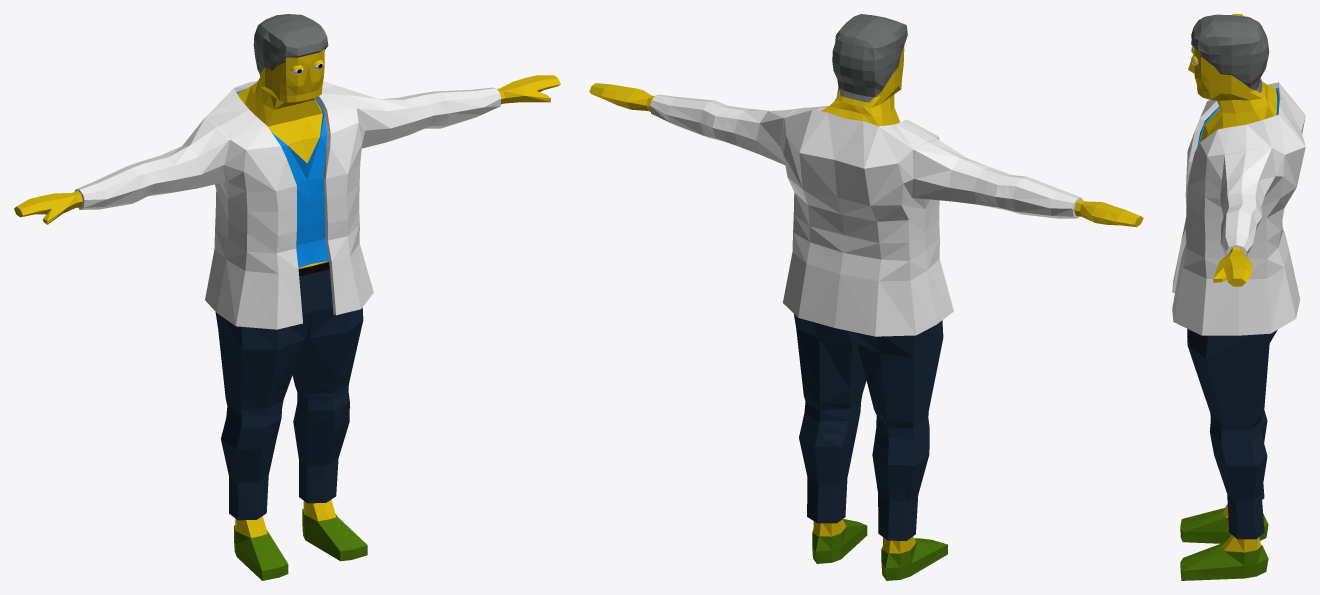
The model's file is Dealer.fbx.
3 renders of one model, left to right at view 1: azimuth 30°, elevation 25°; view 2: azimuth 150°, elevation 25°; view 3: azimuth 270°, elevation 25°, orthographic.
Parts seen in each view (by area): view 1: Dealer; view 2: Dealer; view 3: Dealer.
Part boxes in pixels (x1,y1,x2,y2): Dealer: [14, 14, 560, 580]; Dealer: [589, 14, 1143, 580]; Dealer: [1172, 14, 1305, 580].
Bounding box in the file's own units: 1.81 × 1.7 × 0.3855.
